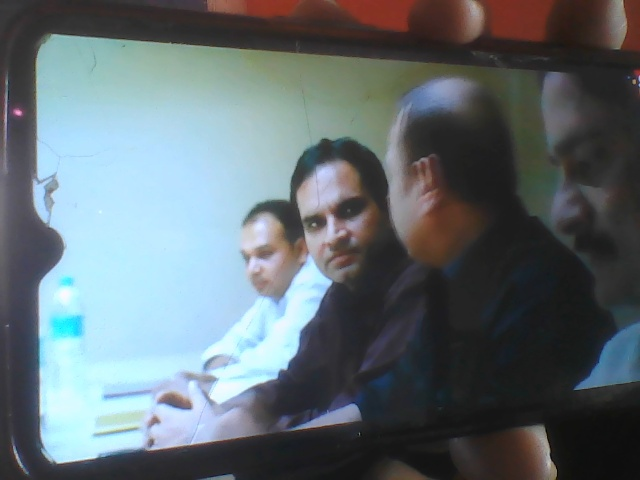fake: (286, 120, 419, 308)
